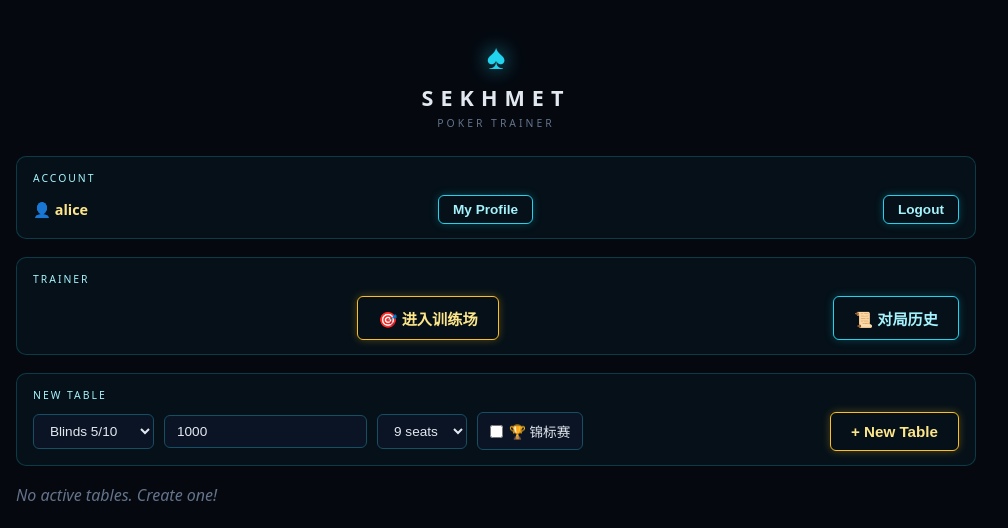
Test case: guest mode shows the login form and logout clears the session
Click the button "Logout". click: (921, 209)
box: left=883, top=195, right=959, bottom=224
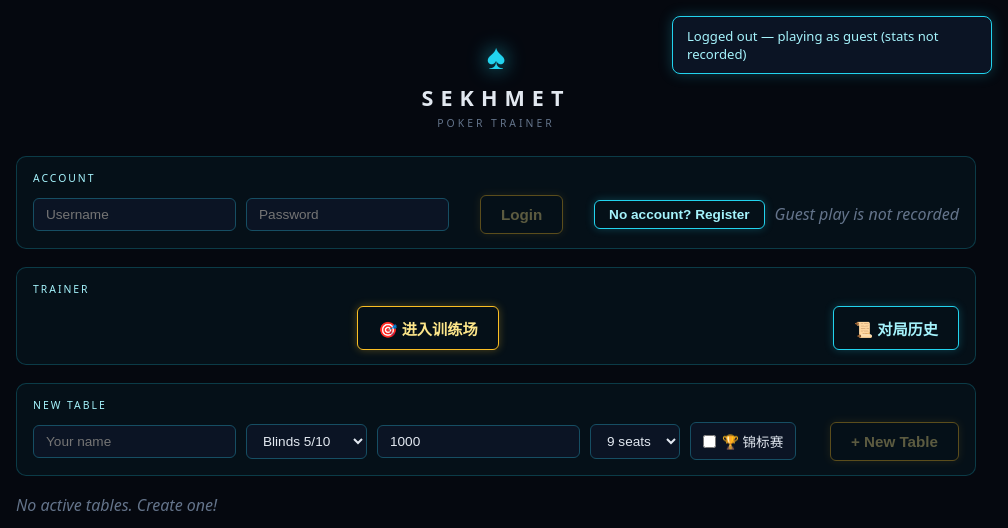
Expected: the button "Login" is shown, left=480, top=195, right=563, bottom=234
